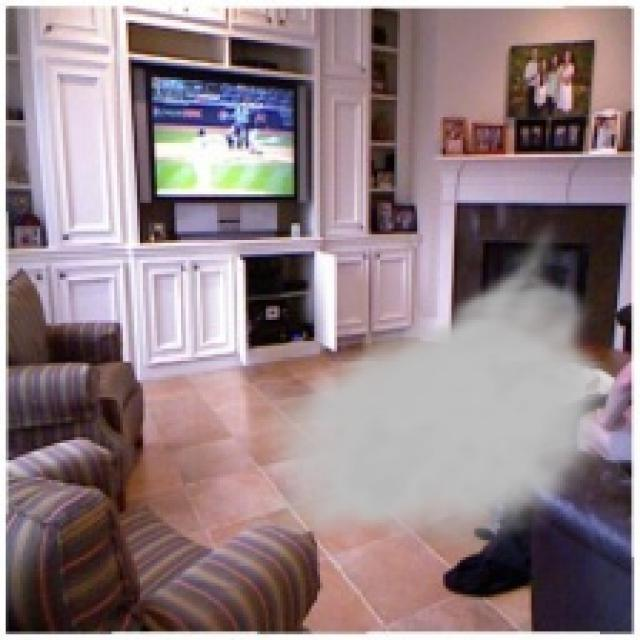Smoke: (242, 214, 638, 557)
